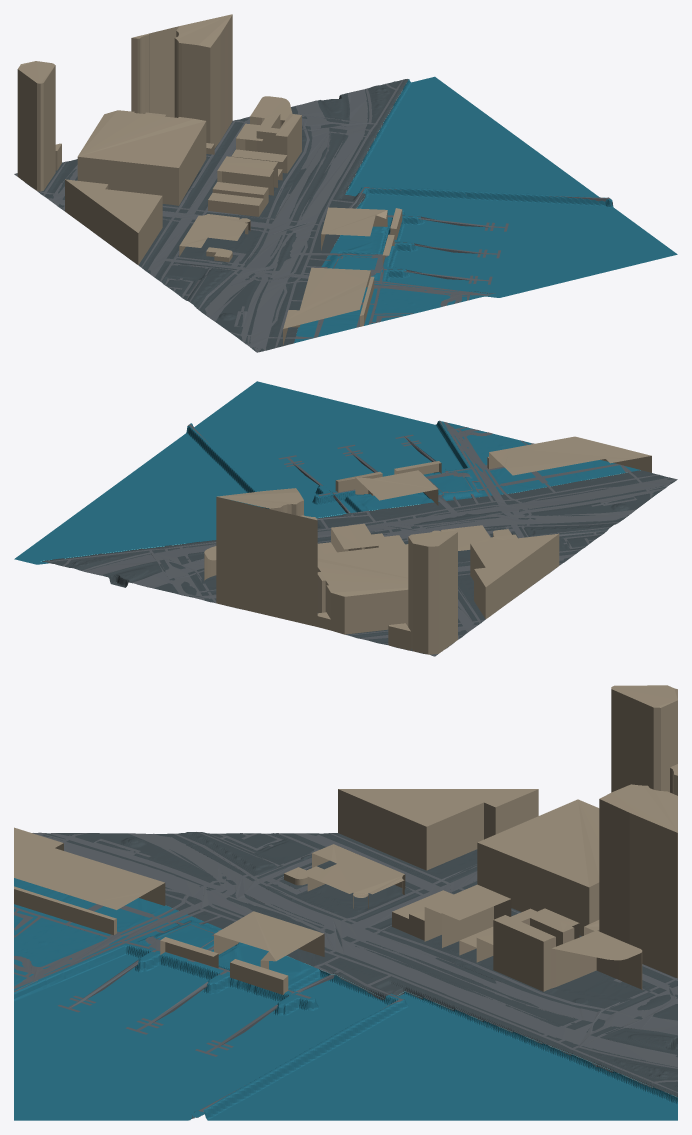
Rendered from epsg26910-1441-10893.source-tone-production-proof.glb.
3 views of the same model, one above another, from view 1: azimuth 30°, elevation 25°; view 2: azimuth 150°, elevation 25°; view 3: azimuth 270°, elevation 25° (orthographic). The views are drawn at different scales.
Parts seen in each view (by area): view 1: epsg26910-1441-10893-lod0; view 2: epsg26910-1441-10893-lod0; view 3: epsg26910-1441-10893-lod0.
Boxes of the visible parts, box(x1,y1,x2,y2) form: epsg26910-1441-10893-lod0: box(14, 14, 677, 352); epsg26910-1441-10893-lod0: box(14, 381, 677, 656); epsg26910-1441-10893-lod0: box(14, 685, 677, 1120).
Size of the model in its own units: 384 by 100 by 384.
